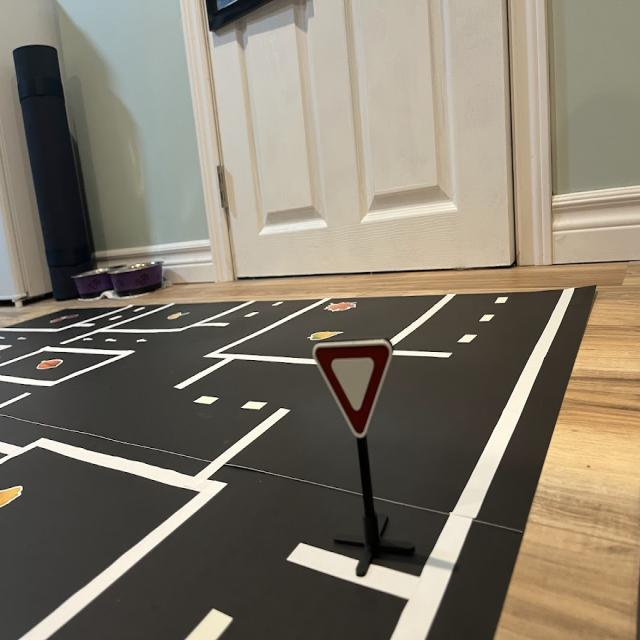sign_yield: (315, 341, 393, 441)
